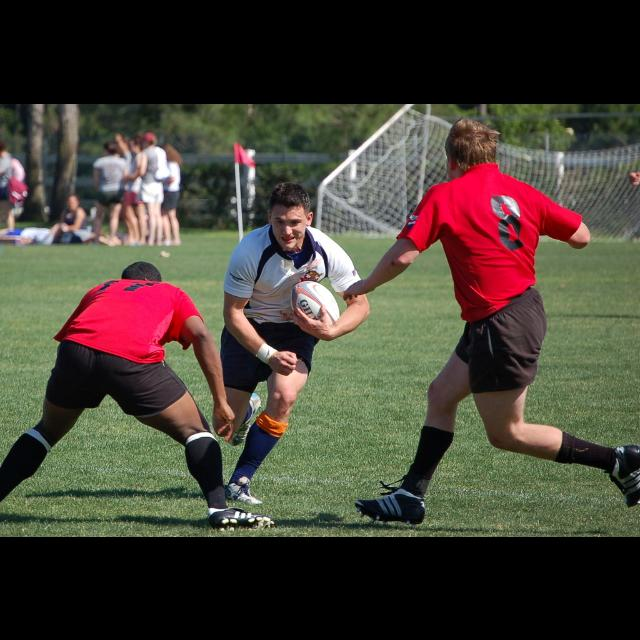Football: (288, 280, 342, 330)
